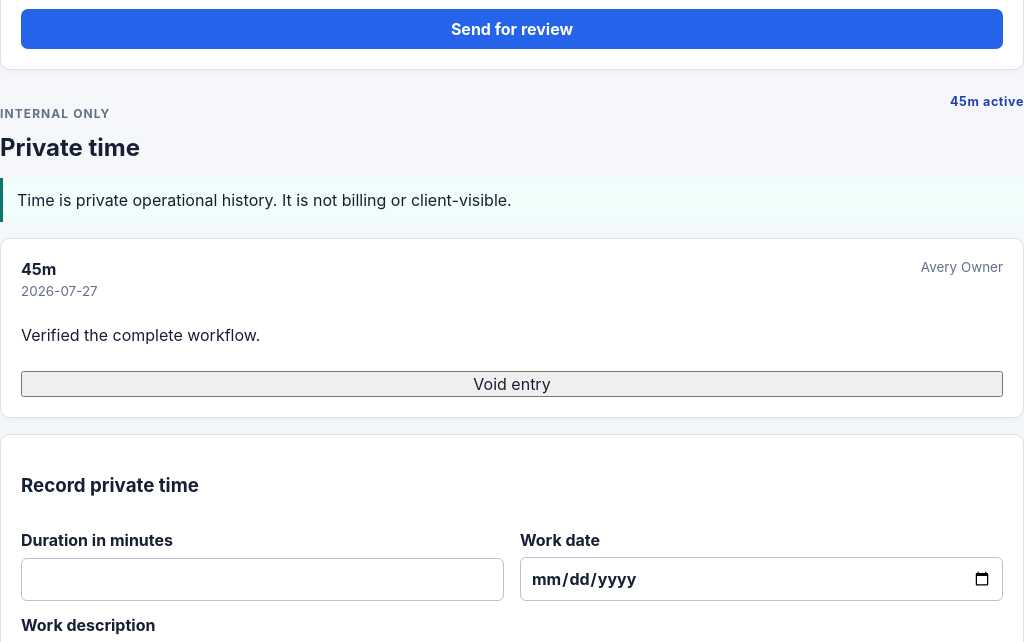
Test case: P005 work and history UI › voids an own entry with the exact command and preserves the reason on conflict
(page scrolled)
Click the button "Void entry" at (512, 384), box [21,371,1003,397]
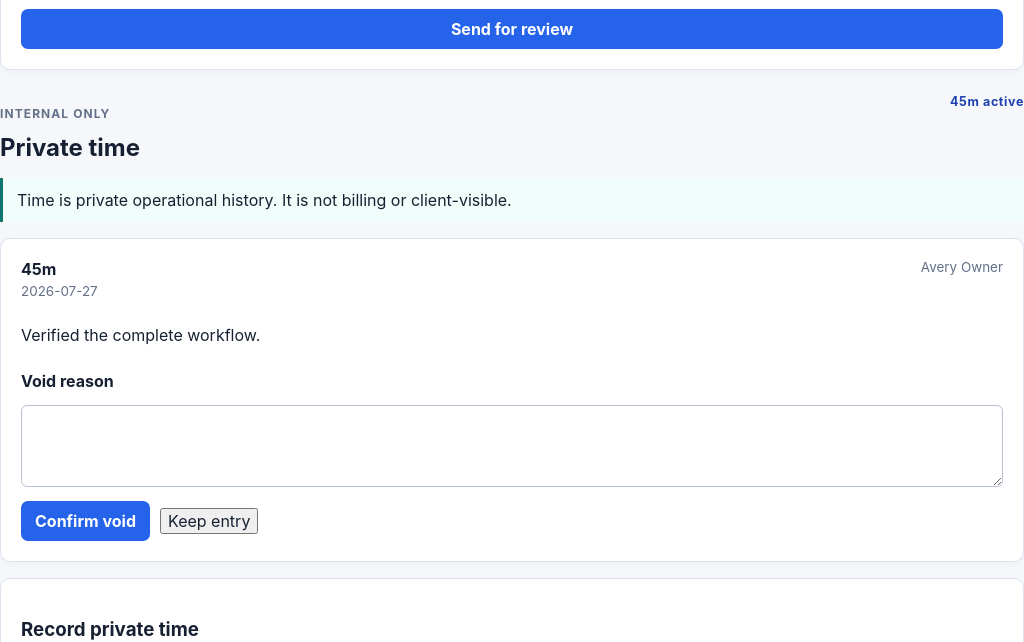
Type "Duplicate work record." into the text box labelled "Void reason" at (512, 446), box [21,405,1003,487]
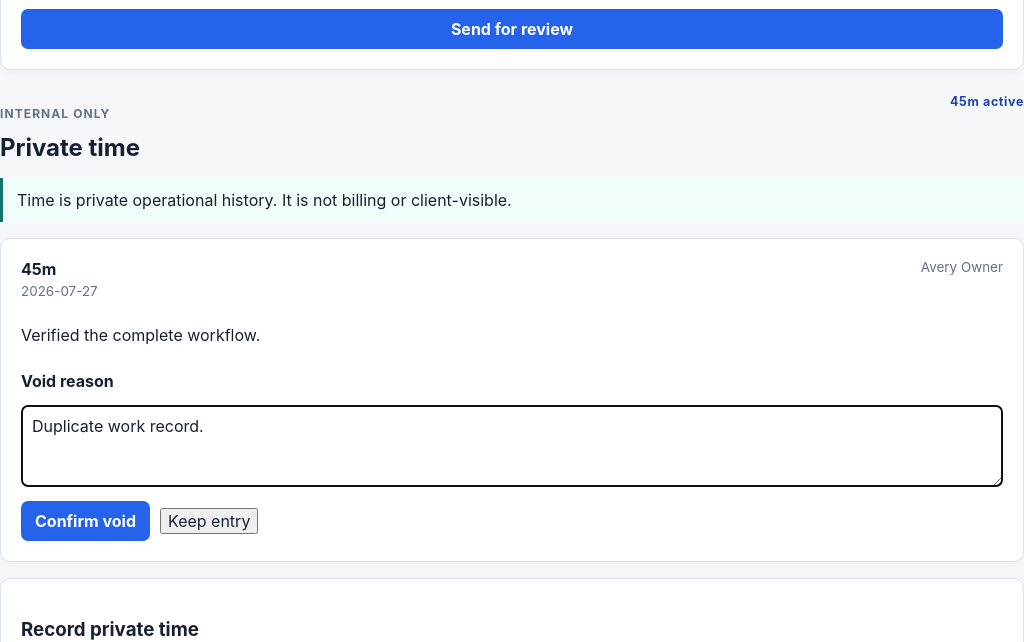
Click the button "Confirm void" at (86, 521), box [21,501,150,541]
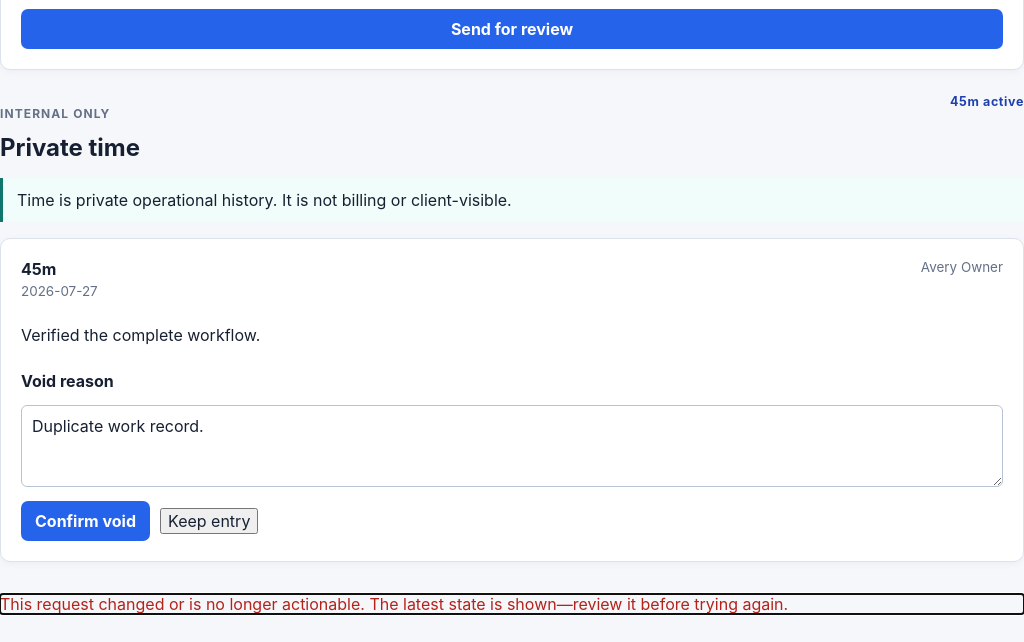
Now the message shows "This request changed or is no longer actionable.", box [0,594,788,614]
